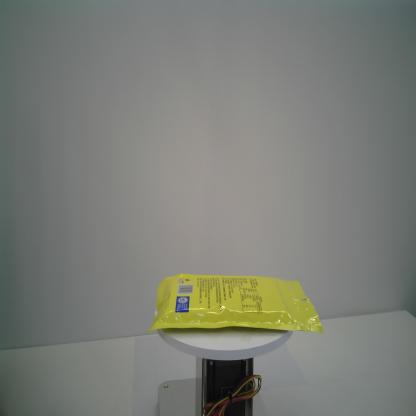Dried Fruit: (146, 273, 323, 336)
